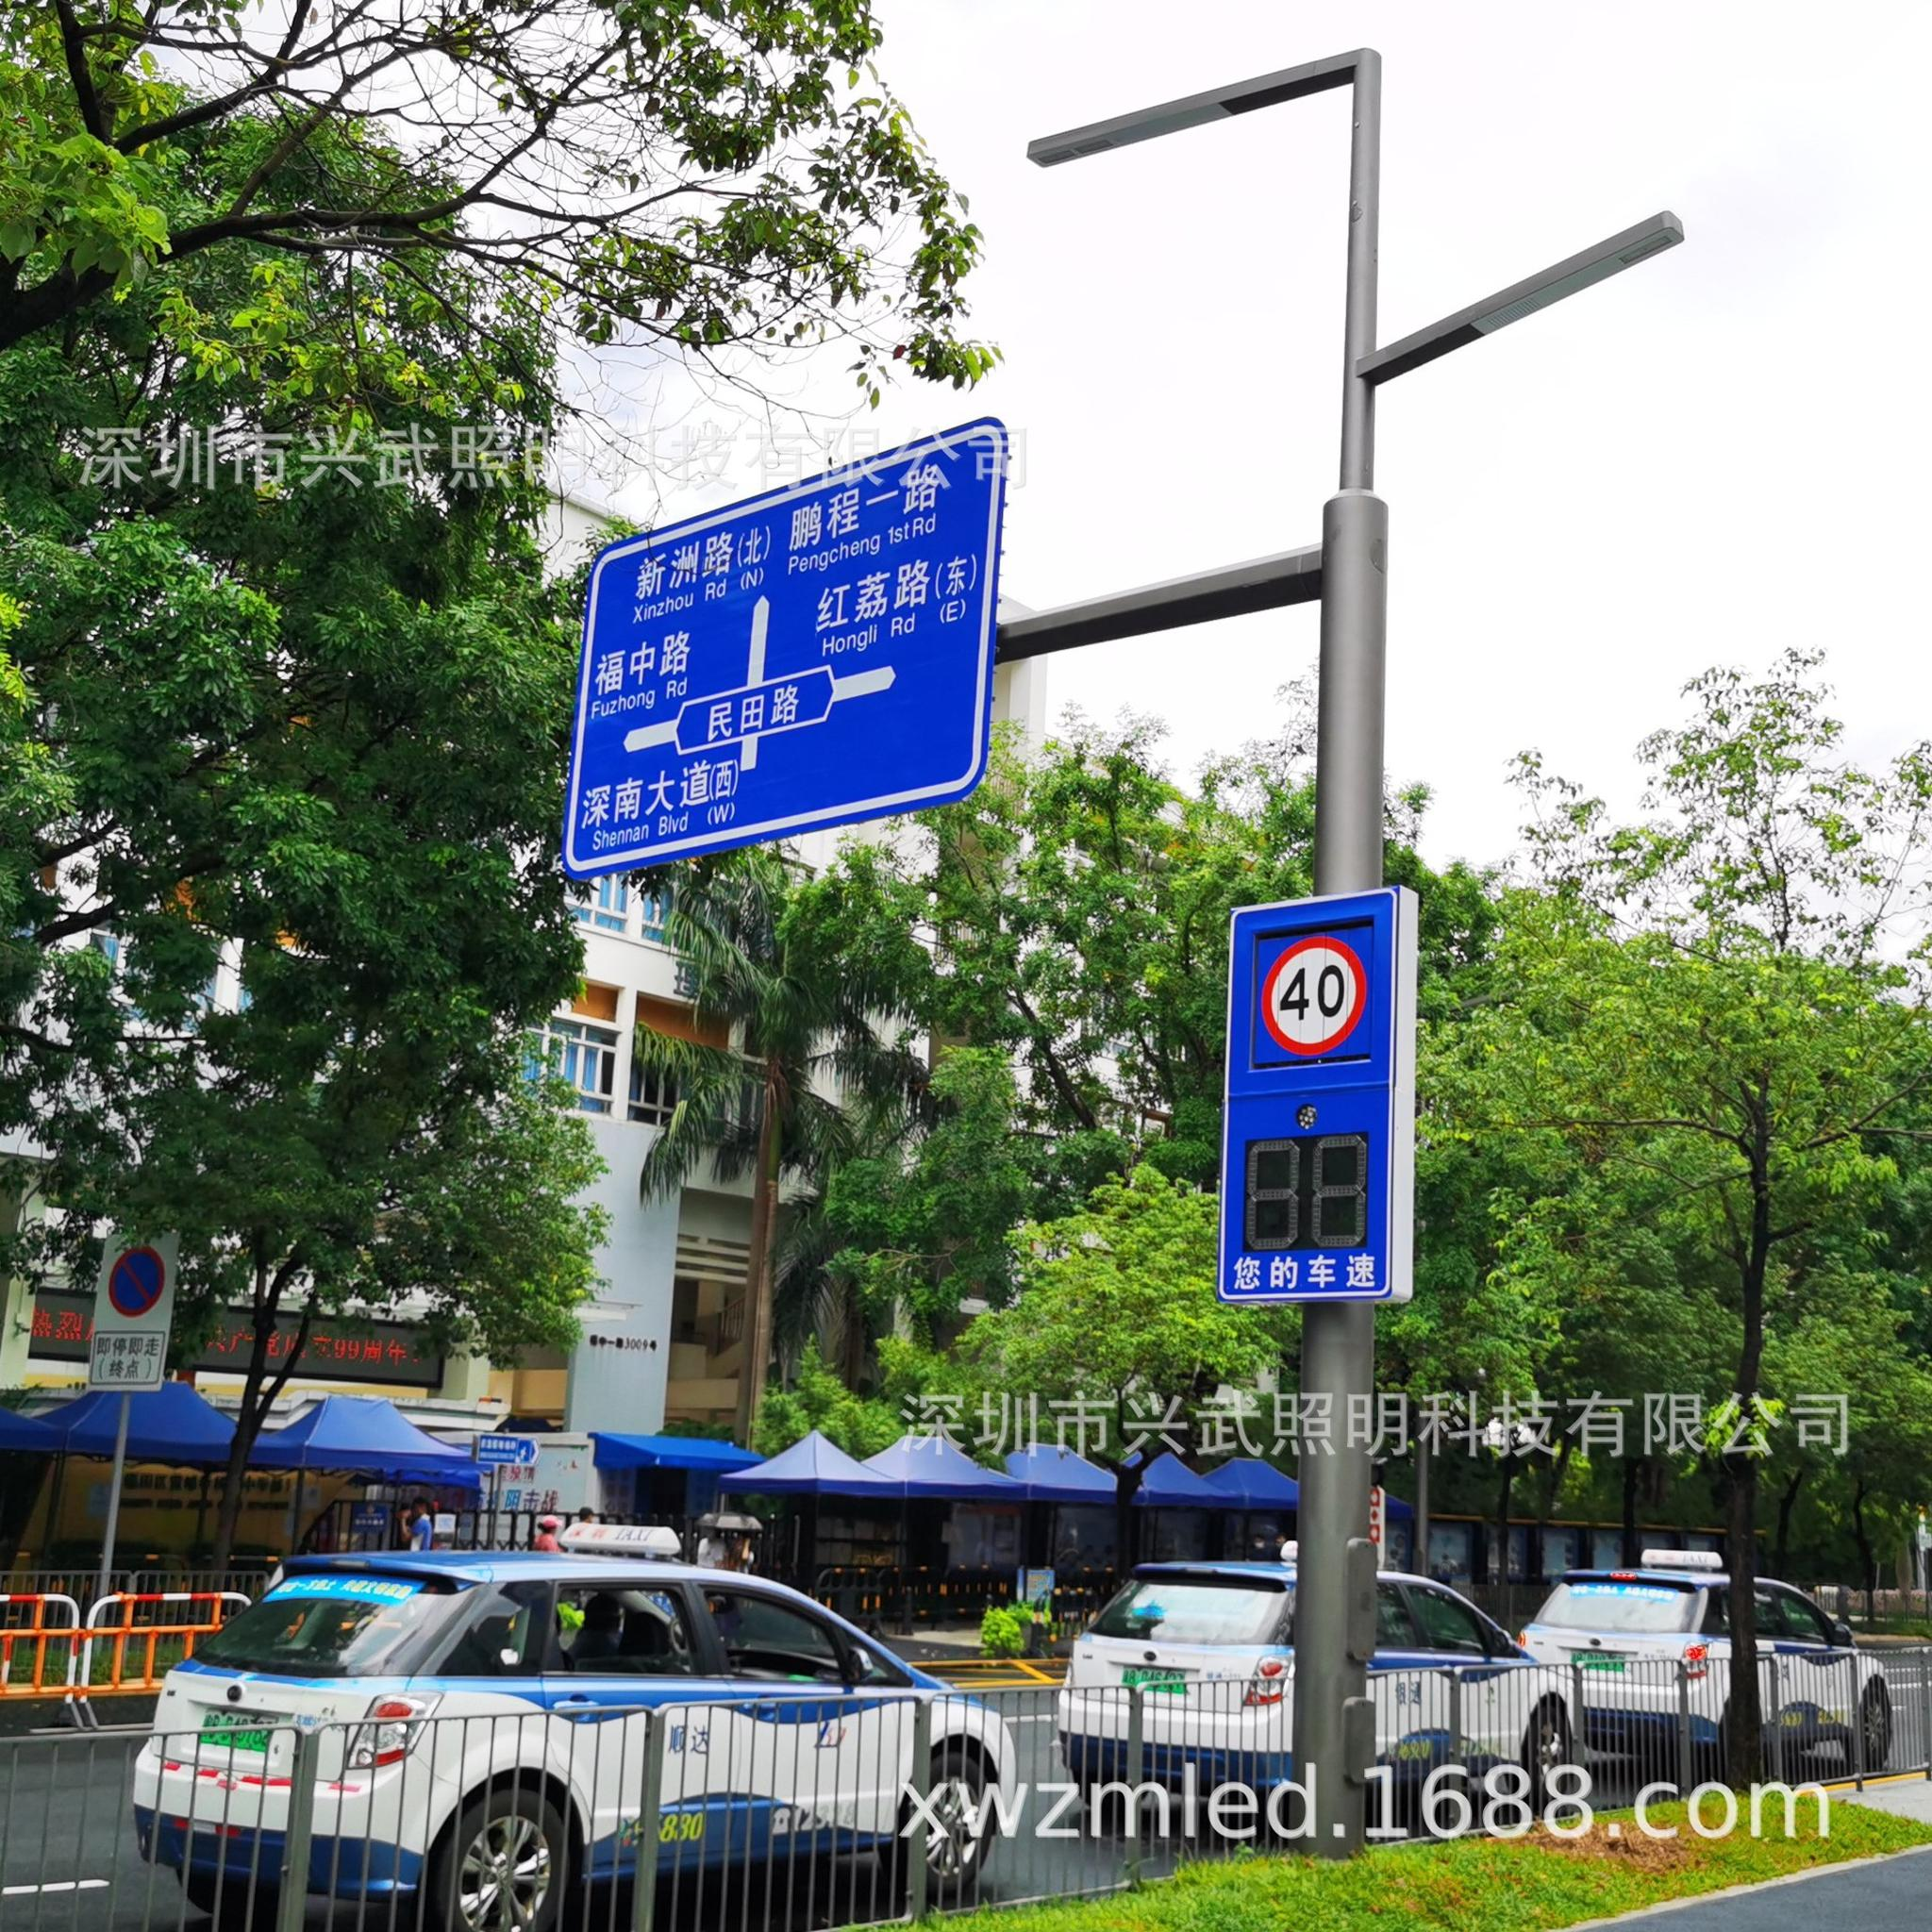pl40: (1260, 939, 1361, 1062)
pn: (108, 1246, 165, 1313)
